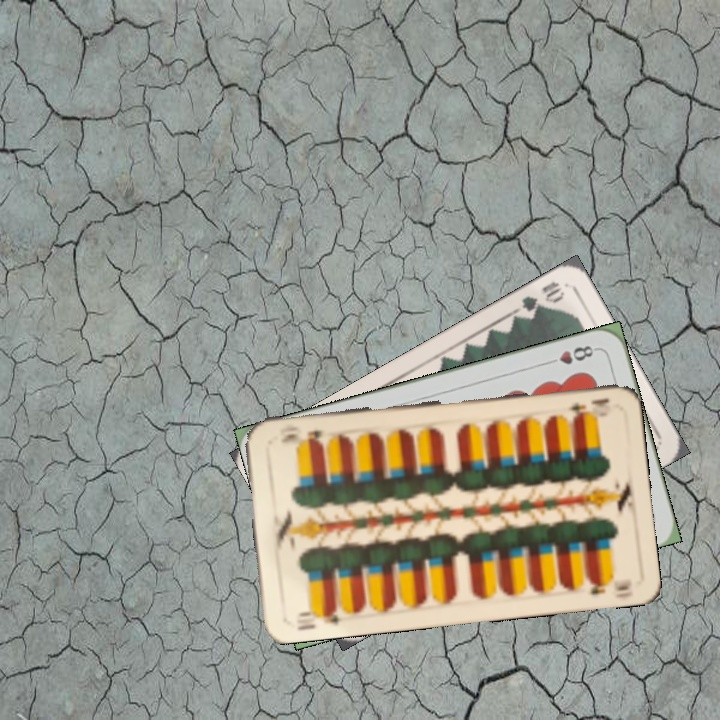E10: (293, 602, 342, 633), (563, 394, 612, 417)
G10: (510, 277, 568, 322)
H8: (542, 341, 600, 367)
